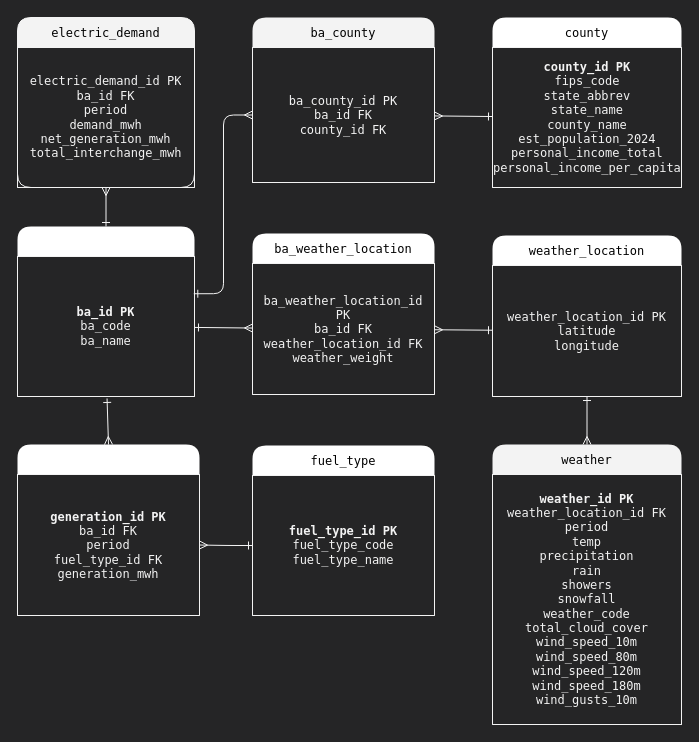
This 699x742 diagram has some shape labels left out. The shapes that lost their labels are listed below. From the top down, each one's box as (x1, y1, x2, y2) in pixels, then its label:
(17, 226, 194, 396): balancing_authority
(17, 444, 199, 615): electric_generation
